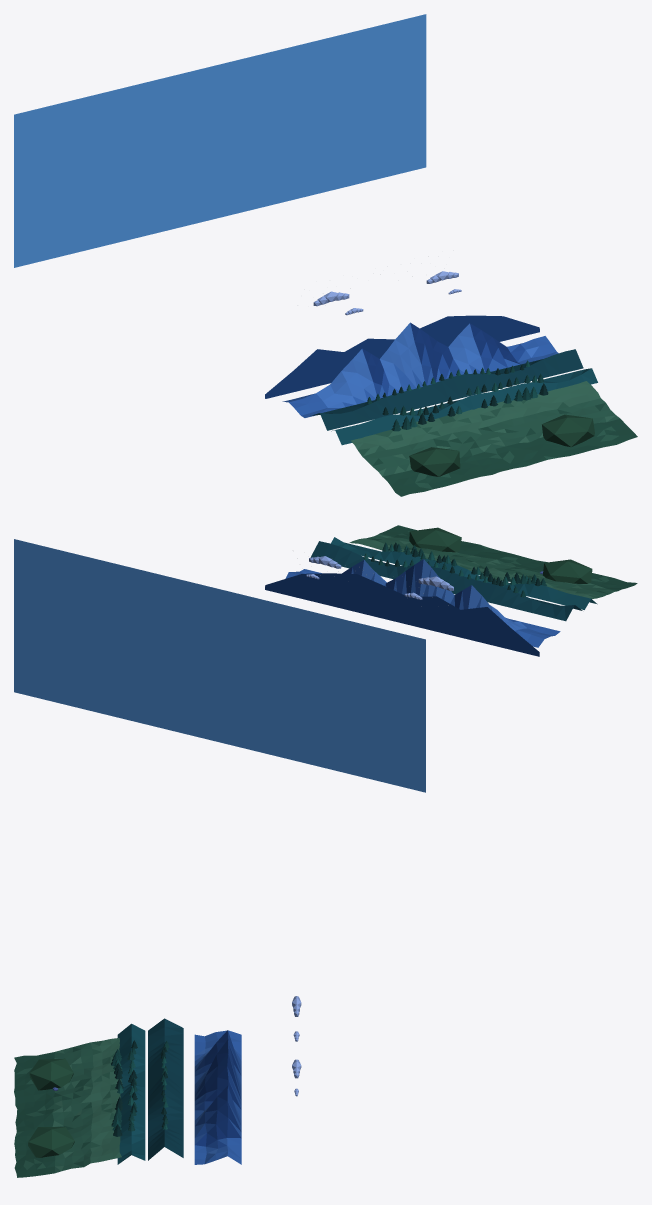
The model's file is LowPoly_MountainForest.fbx.
3 renders of one model, top to bottom at view 1: azimuth 30°, elevation 25°; view 2: azimuth 150°, elevation 25°; view 3: azimuth 270°, elevation 25°, orthographic. The views are drawn at different scales.
Parts seen in each view (by area): view 1: Sky_Backdrop, Meadow_Ground, Mountains_Main, Rolling_Hills, Mountains_Far, Mounds_And_Rocks, Forest_Trees, LowPoly_Clouds; view 2: Sky_Backdrop, Mountains_Far, Rolling_Hills, Meadow_Ground, Mountains_Main, Mounds_And_Rocks, Forest_Trees, LowPoly_Clouds; view 3: Meadow_Ground, Rolling_Hills, Mountains_Main, Mounds_And_Rocks, Forest_Trees.
Part boxes in pixels (x1,y1,x2,y2): Sky_Backdrop: (14, 14, 426, 267); Meadow_Ground: (351, 381, 637, 496); Mountains_Main: (282, 322, 558, 417); Rolling_Hills: (310, 349, 597, 445); Mountains_Far: (265, 315, 539, 398); Mounds_And_Rocks: (409, 414, 594, 476); Forest_Trees: (366, 360, 548, 431); LowPoly_Clouds: (313, 271, 461, 315); Sky_Backdrop: (14, 539, 425, 792); Mountains_Far: (265, 573, 539, 656); Rolling_Hills: (310, 537, 597, 621); Meadow_Ground: (349, 525, 637, 598); Mountains_Main: (285, 559, 560, 647); Mounds_And_Rocks: (409, 527, 592, 583); Forest_Trees: (363, 542, 546, 597); LowPoly_Clouds: (306, 556, 453, 599); Meadow_Ground: (14, 1038, 122, 1177); Rolling_Hills: (117, 1018, 183, 1164); Mountains_Main: (194, 1030, 241, 1164); Mounds_And_Rocks: (28, 1058, 74, 1157); Forest_Trees: (111, 1040, 169, 1136).
Bounding box in the file's own units: 9000 × 3959 × 11335.
